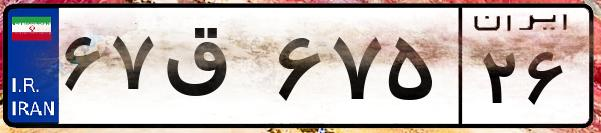2: (475, 38, 525, 113)
5: (385, 28, 445, 110)
6: (270, 28, 330, 110), (57, 26, 110, 100), (525, 38, 570, 115)
7: (330, 28, 385, 110), (110, 28, 158, 98)
ق: (158, 20, 270, 120)
